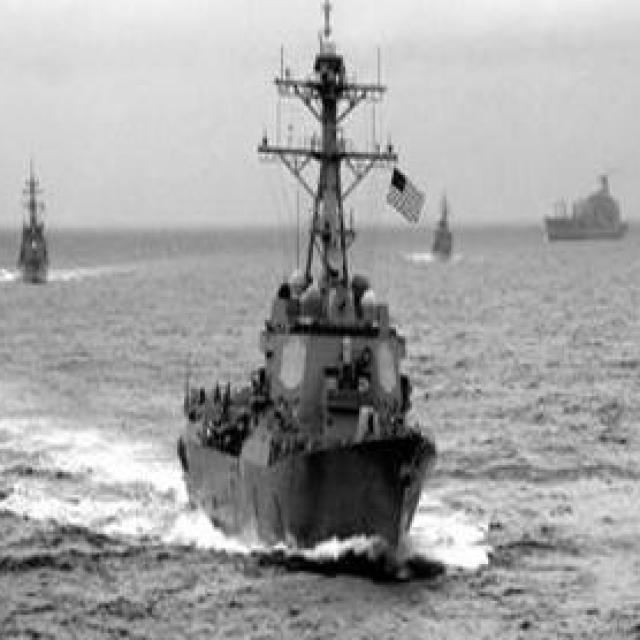navalvessels: (171, 21, 446, 560), (538, 168, 629, 244), (14, 158, 65, 281), (428, 188, 462, 260)
